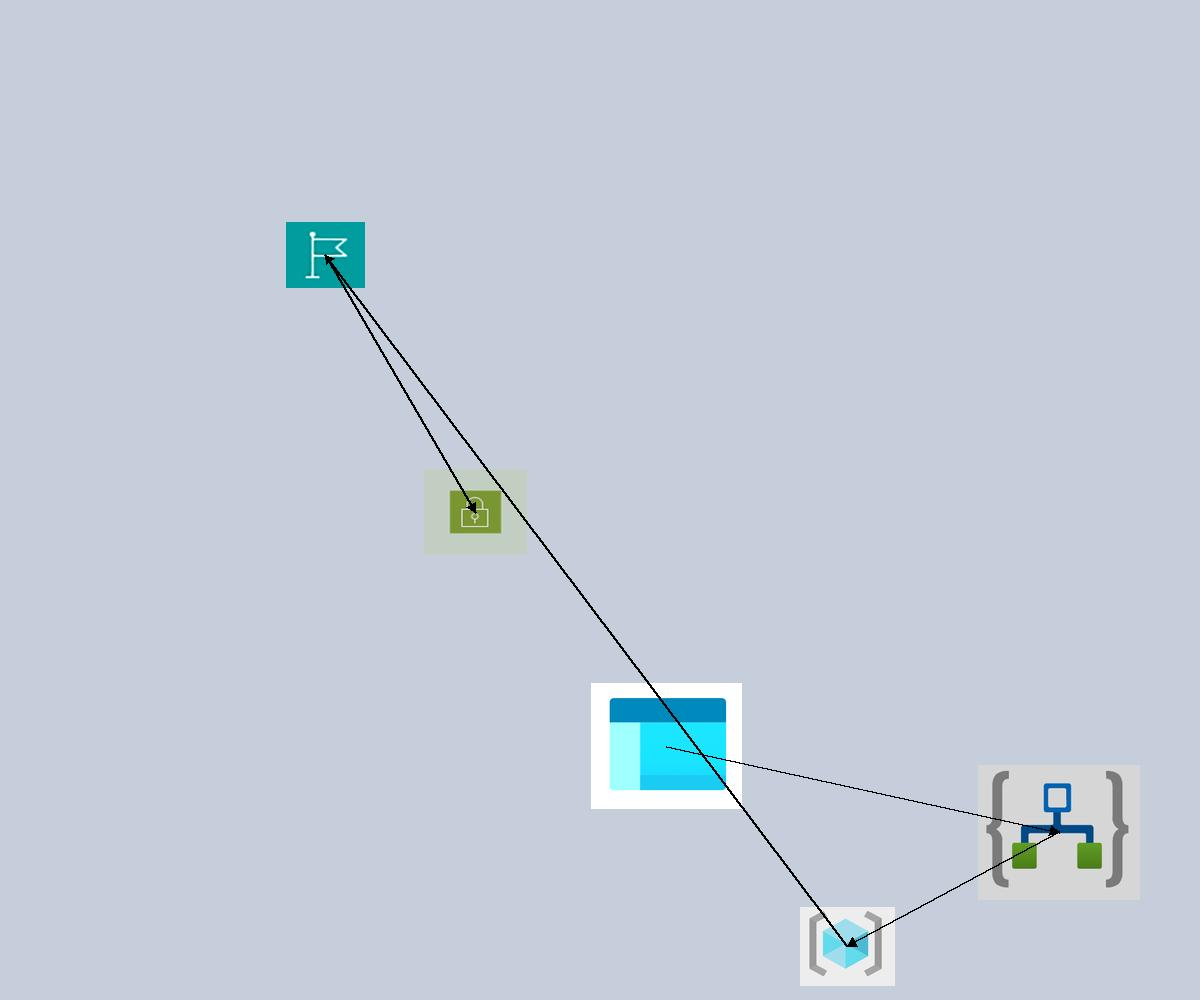AWS-Public-subnet: (424, 469, 527, 555)
AWS-Region: (286, 222, 365, 288)
Azure_integration-204-Logic-Apps: (978, 765, 1140, 900)
Azure_management-portal: (591, 683, 742, 809)
Azure_resource_group: (800, 907, 895, 986)
